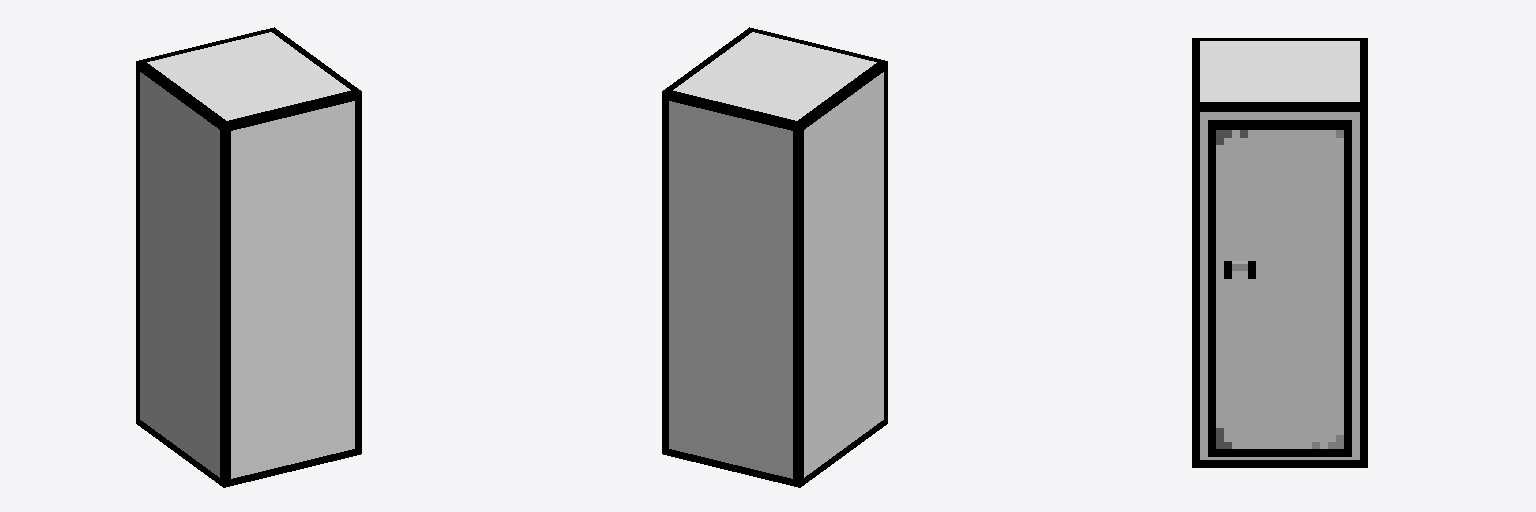
The picture shows the model from 3 angles: view 1: azimuth 30°, elevation 25°; view 2: azimuth 150°, elevation 25°; view 3: azimuth 270°, elevation 25°; orthographic projection.
Parts seen in each view (by area): view 1: Fridge; view 2: Fridge; view 3: Fridge.
Part boxes in pixels (bbox=[...]): Fridge: bbox=[136, 27, 361, 487]; Fridge: bbox=[662, 27, 887, 487]; Fridge: bbox=[1192, 38, 1367, 467].
Bounding box in the file's own units: 2.2 × 5 × 2.2.
Materials: 1 (1 with a texture image).